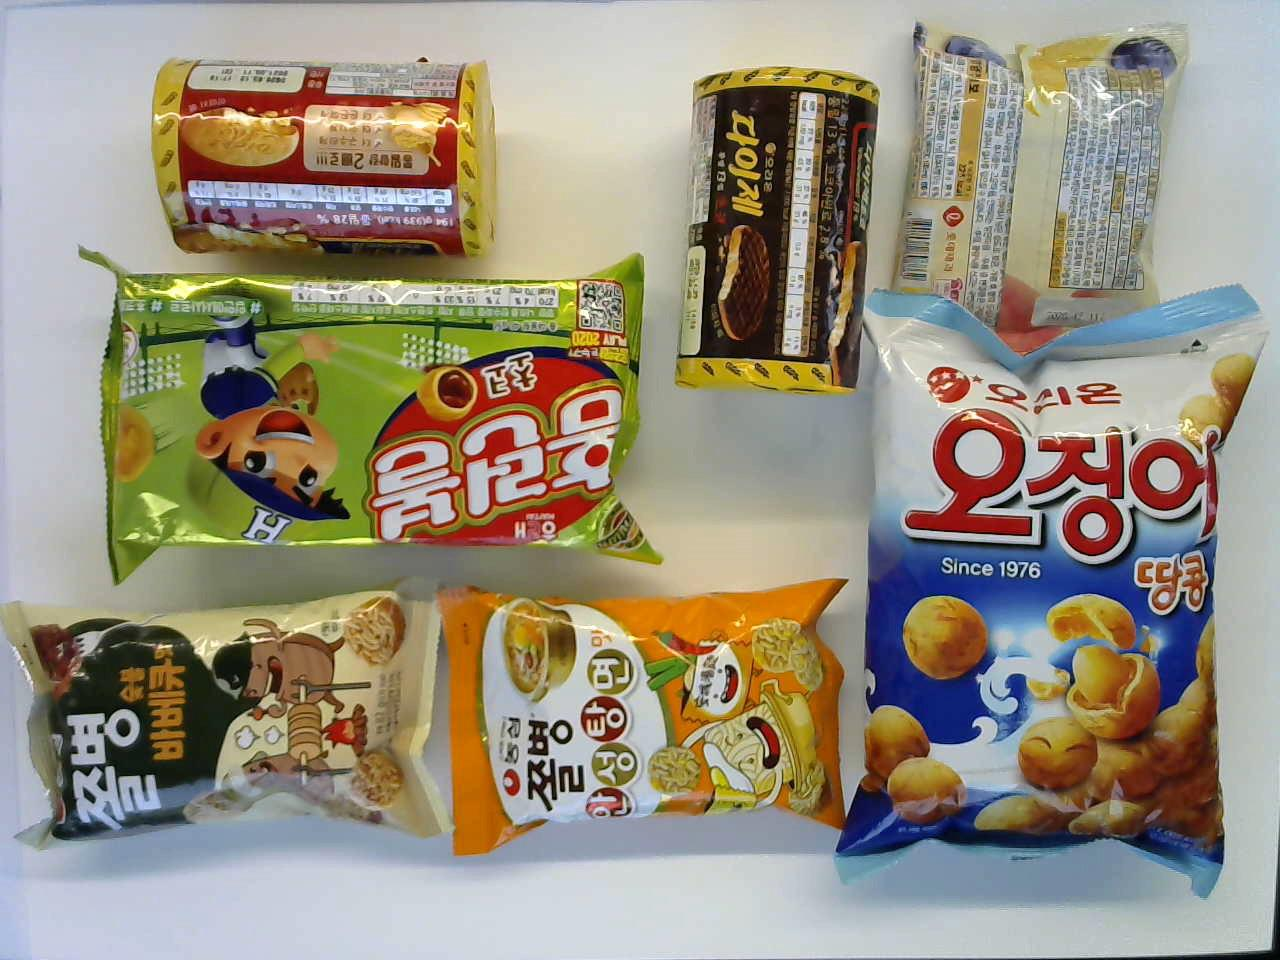diget_choco: (677, 61, 885, 395)
diget_ori: (147, 52, 500, 261)
gumi_gumi: (898, 14, 1195, 348)
homerunball: (71, 241, 670, 587)
jjolbyung_noodle: (439, 566, 851, 860)
jjolbyung_ori: (2, 588, 451, 842)
squid_peanut: (829, 281, 1271, 898)
